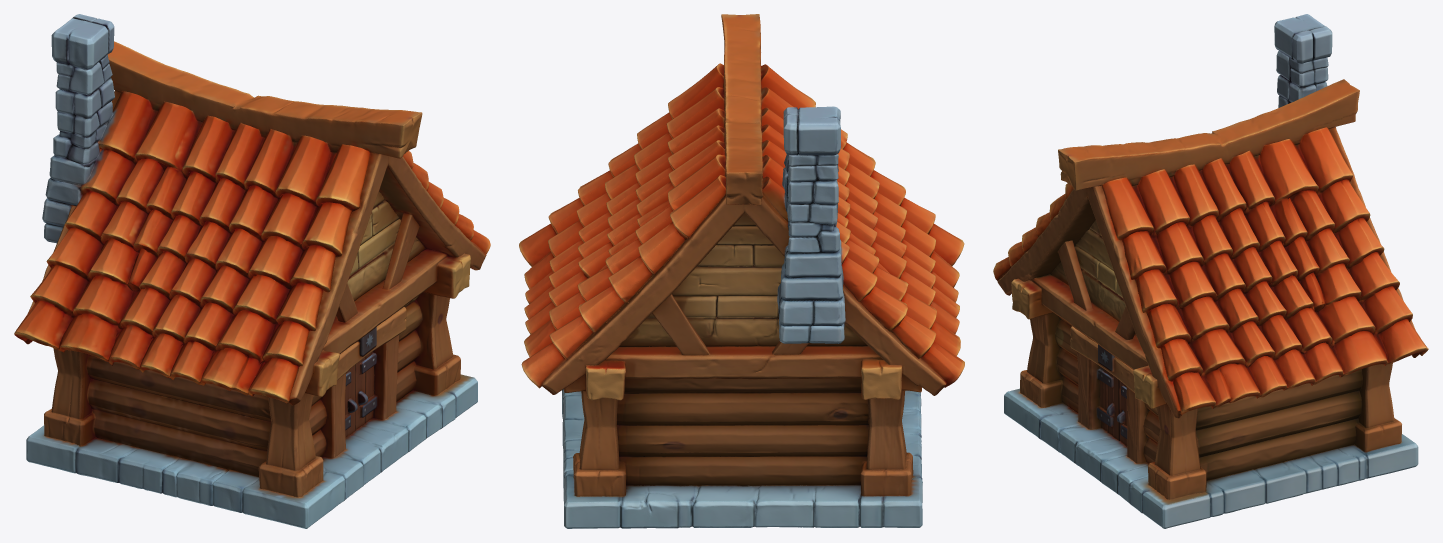
Rendered from town_hall.glb.
3 views of the same model, side by side, from view 1: azimuth 30°, elevation 25°; view 2: azimuth 150°, elevation 25°; view 3: azimuth 270°, elevation 25° (orthographic). The views are drawn at different scales.
Size of the model in its own units: 2 by 1.7 by 1.84.
Materials: 1 (1 with a texture image).
